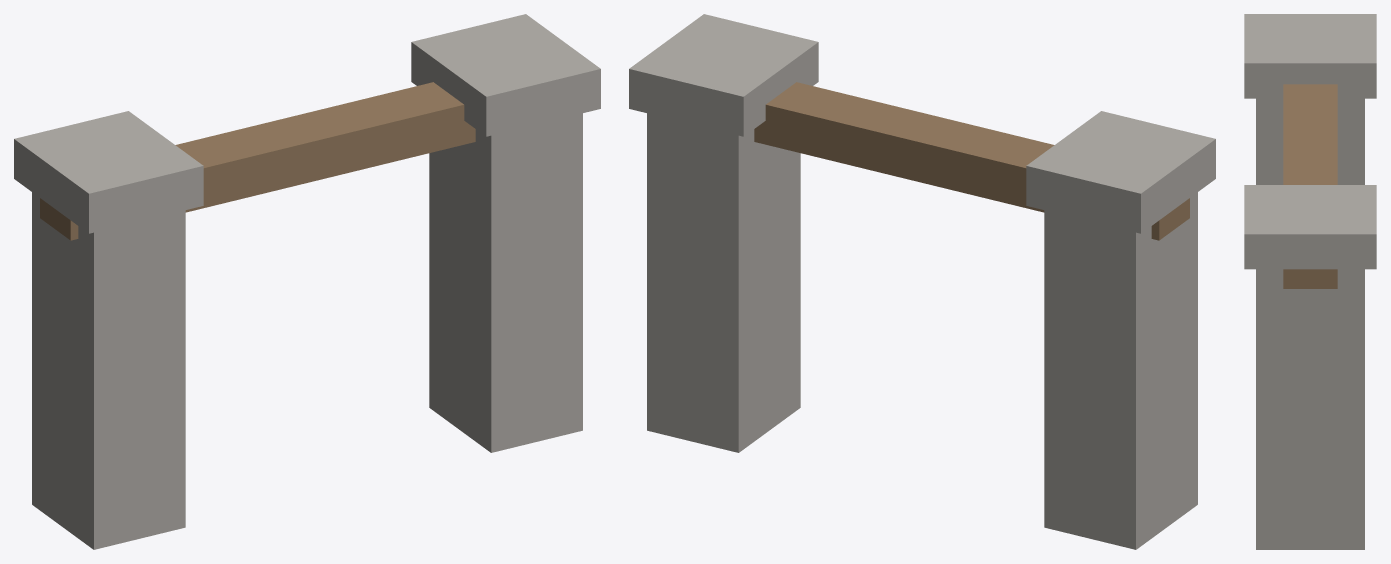
File: gate.glb
The picture shows the model from 3 angles, left to right: view 1: azimuth 30°, elevation 25°; view 2: azimuth 150°, elevation 25°; view 3: azimuth 270°, elevation 25°; orthographic projection. The views are drawn at different scales.
Visible parts, largest first — view 1: Gate; view 2: Gate; view 3: Gate.
Part boxes in pixels (x1,y1,x2,y2): Gate: [14, 14, 600, 549]; Gate: [629, 14, 1215, 549]; Gate: [1244, 14, 1376, 549].
Bounding box in the file's own units: 6.7 × 4.55 × 1.7.
